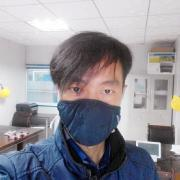OK: (60, 75, 124, 146)
